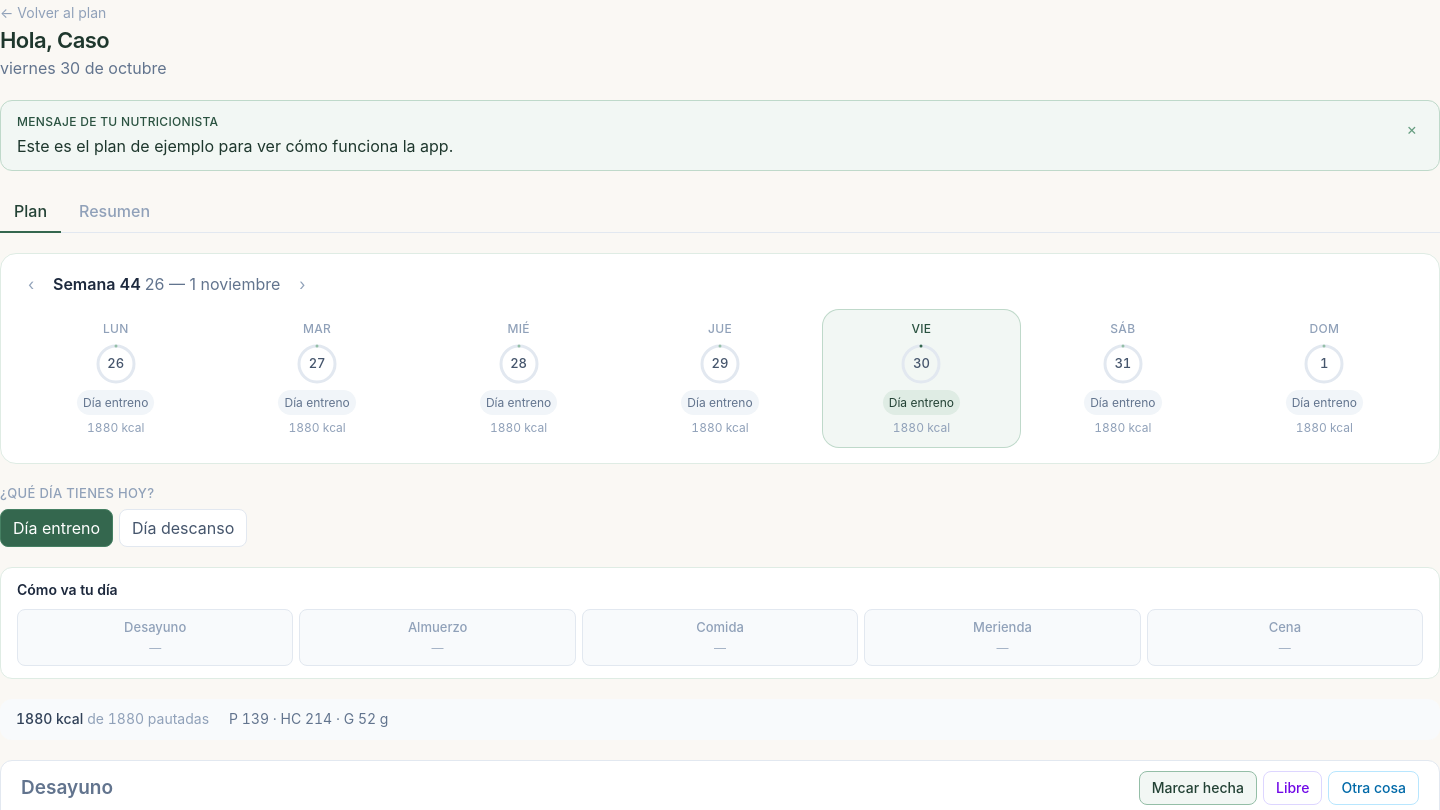
Test: Las cinco pestañas › el resumen enseña constancia y comidas fuera
This screenshot has width=1440, height=810.
Click the button "Resumen": click(114, 212) [65, 191, 164, 233]
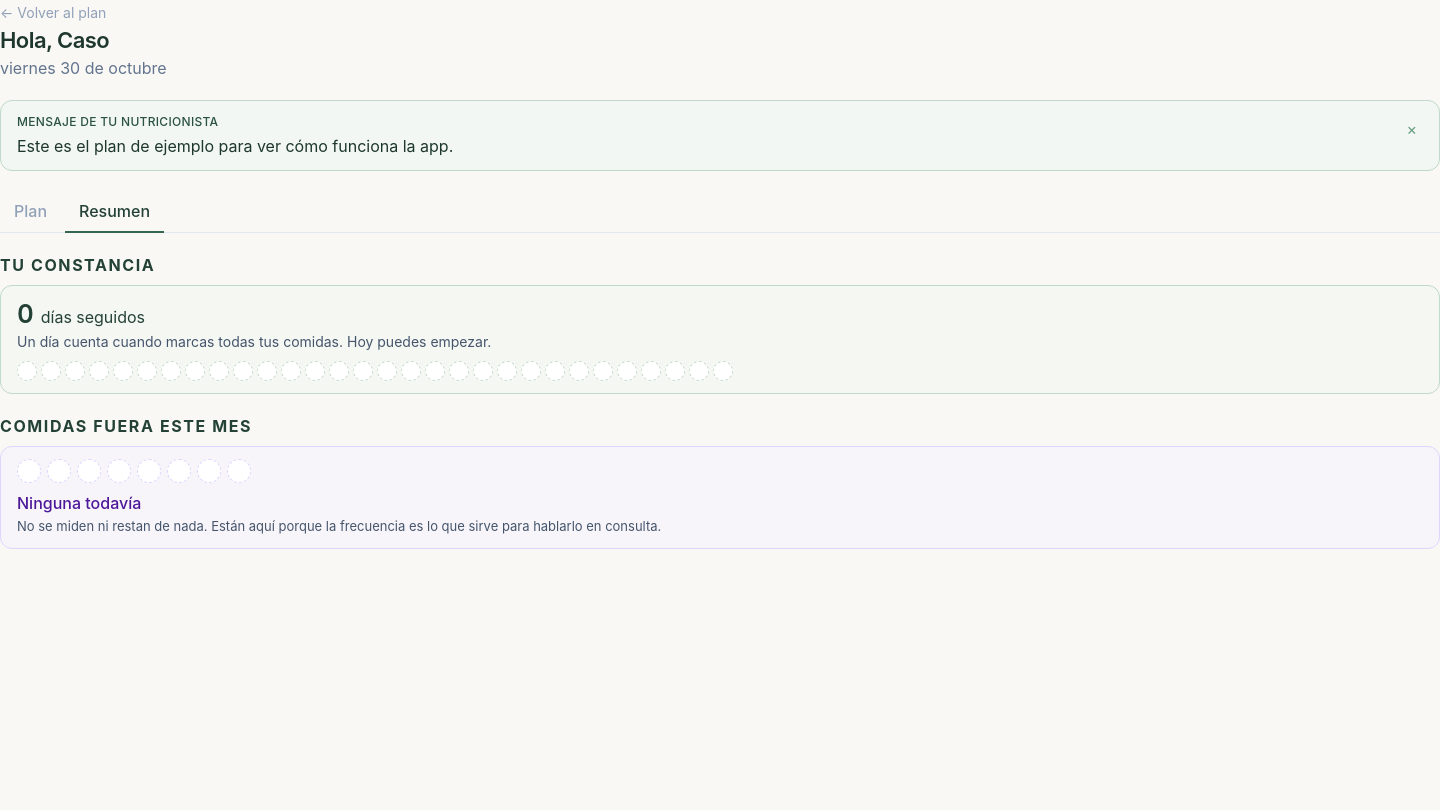
Expected: the heading "Tu constancia" is shown, [0, 255, 155, 275]
Expected: the heading "Comidas fuera este mes" is shown, [0, 416, 252, 436]
